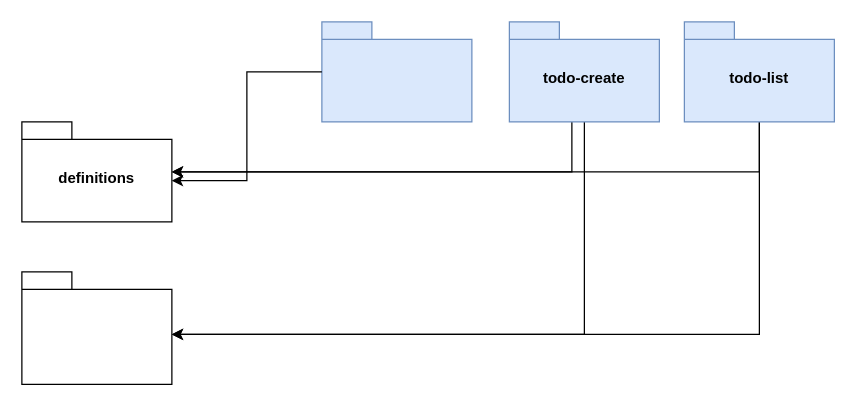
Image size: 856x406. Some labels were removed from this diagram. Here are the shapes that lost their labels. From the top down, the centre of each, then its label:
At point 396,71: "host".
At point 96,327: "events".
